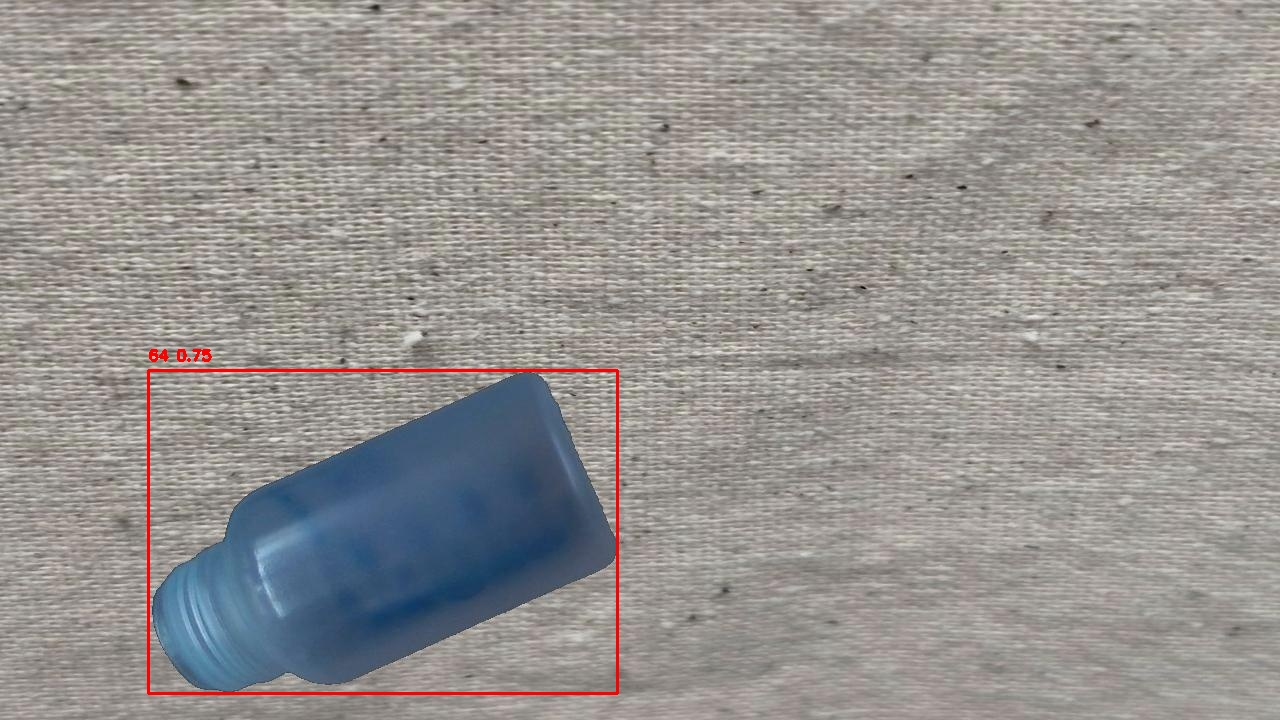cup: (148, 370, 617, 693)
